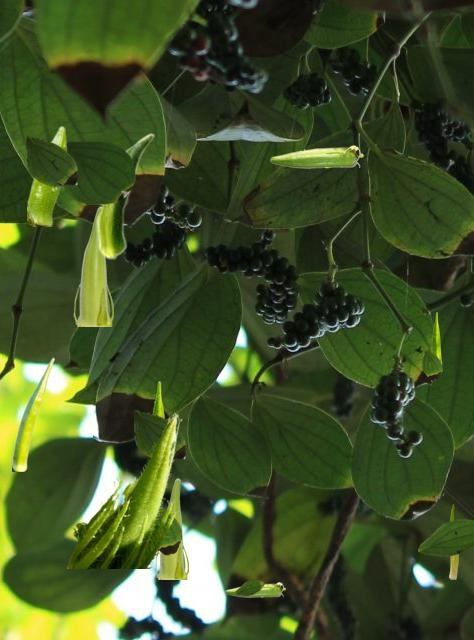okra: (65, 412, 181, 567), (95, 133, 153, 259), (12, 357, 53, 470), (73, 207, 112, 325), (27, 125, 66, 225), (154, 478, 187, 578), (270, 145, 362, 167), (225, 582, 284, 596), (449, 504, 457, 578), (432, 312, 441, 374), (152, 381, 165, 418)
